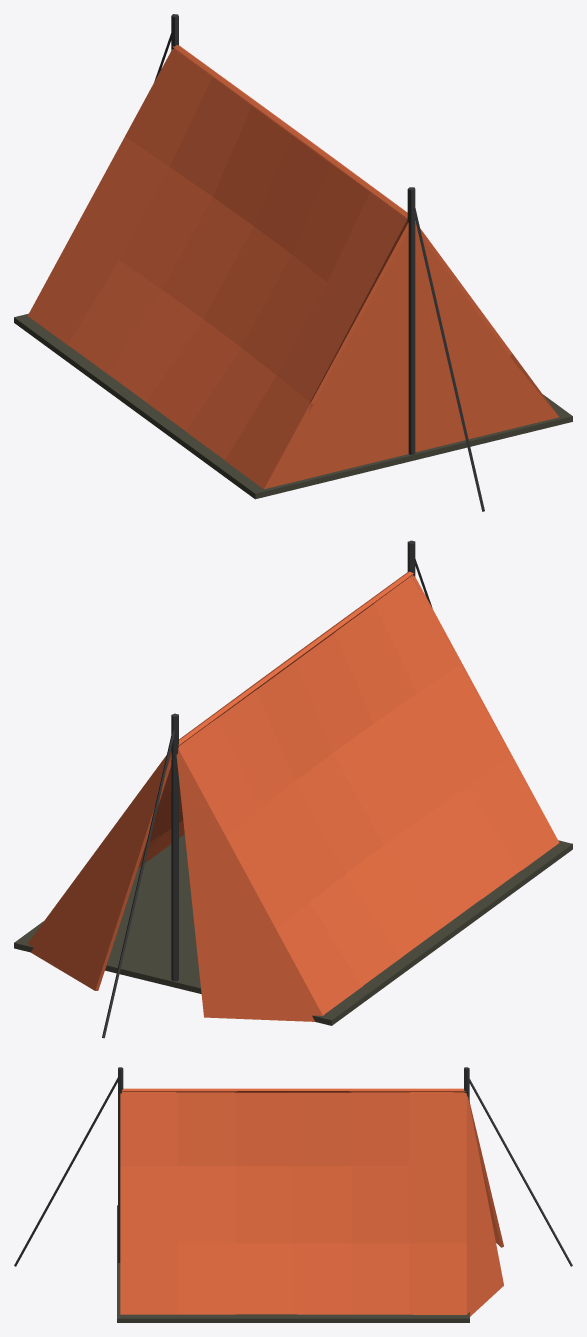
File: kemah-tenda-1.glb
The picture shows the model from 3 angles, top to bottom: view 1: azimuth 30°, elevation 25°; view 2: azimuth 150°, elevation 25°; view 3: azimuth 270°, elevation 25°; orthographic projection. The views are drawn at different scales.
Parts seen in each view (by area): view 1: tenda, alas, tiang, tali; view 2: tenda, alas, tiang.001, tali.001; view 3: tenda, alas, tiang, tali, tali.001.
Part boxes in pixels (left/top/right/bottom): tenda: left=27, top=45, right=559, bottom=489; alas: left=14, top=313, right=572, bottom=499; tiang: left=407, top=187, right=415, bottom=454; tali: left=412, top=202, right=484, bottom=511; tenda: left=27, top=571, right=559, bottom=1021; alas: left=14, top=834, right=572, bottom=1025; tiang.001: left=171, top=713, right=178, bottom=981; tali.001: left=102, top=730, right=174, bottom=1038; tenda: left=120, top=1088, right=503, bottom=1316; alas: left=117, top=1205, right=469, bottom=1322; tiang: left=118, top=1067, right=123, bottom=1262; tali: left=14, top=1077, right=117, bottom=1266; tali.001: left=468, top=1078, right=572, bottom=1266.
Bounding box in the file's own units: 1.78 × 1.46 × 3.71.
